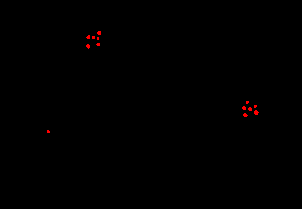Target: (254, 110, 259, 115), (86, 44, 90, 49), (243, 113, 248, 117), (97, 31, 101, 35), (86, 35, 90, 39), (242, 106, 246, 110), (248, 107, 252, 111), (96, 43, 100, 46), (92, 36, 95, 39), (246, 101, 249, 104), (254, 105, 257, 108), (47, 130, 50, 133), (97, 37, 99, 40)
